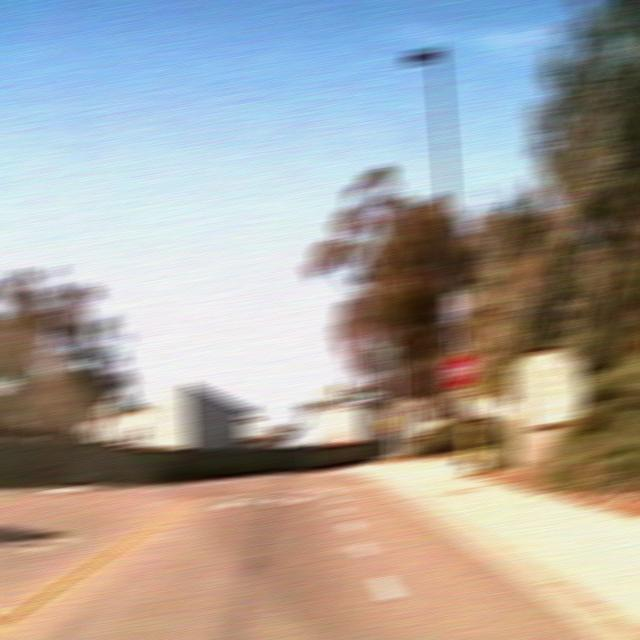stop: (442, 353, 478, 390)
